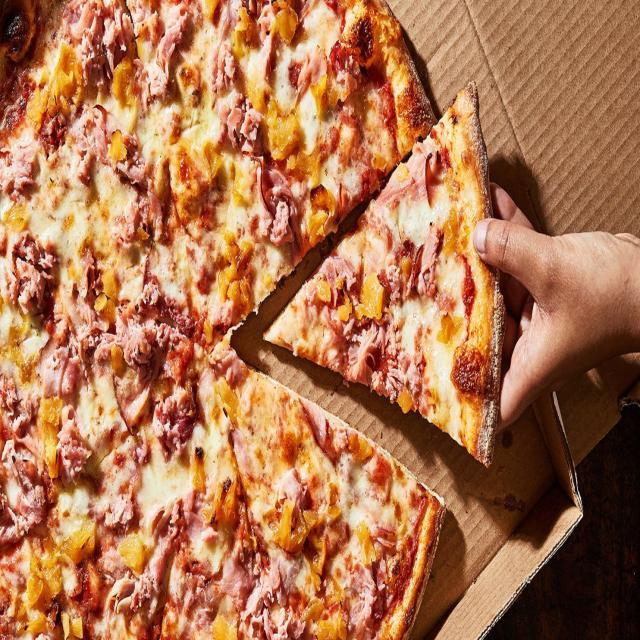pizza: (260, 89, 503, 473)
